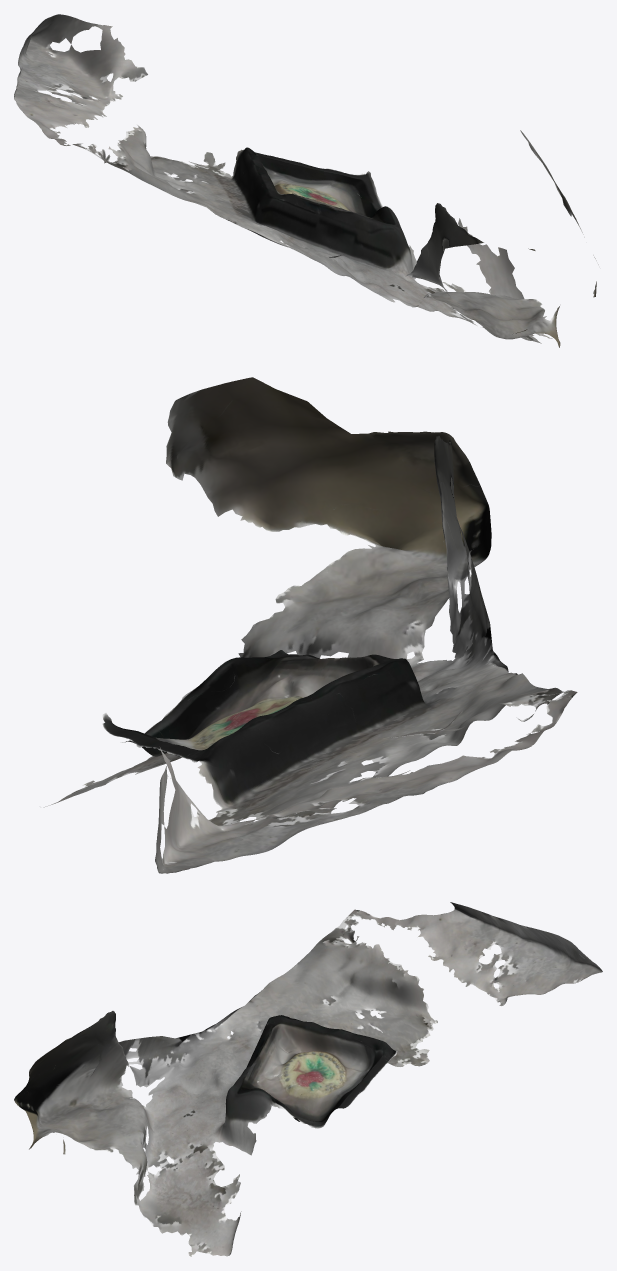
3 views of the same model, one above another, from view 1: azimuth 30°, elevation 25°; view 2: azimuth 150°, elevation 25°; view 3: azimuth 270°, elevation 25° (orthographic). The views are drawn at different scales.
Bounding box in the file's own units: 0.8003 × 0.4483 × 1.23.
Materials: 1 (1 with a texture image).
